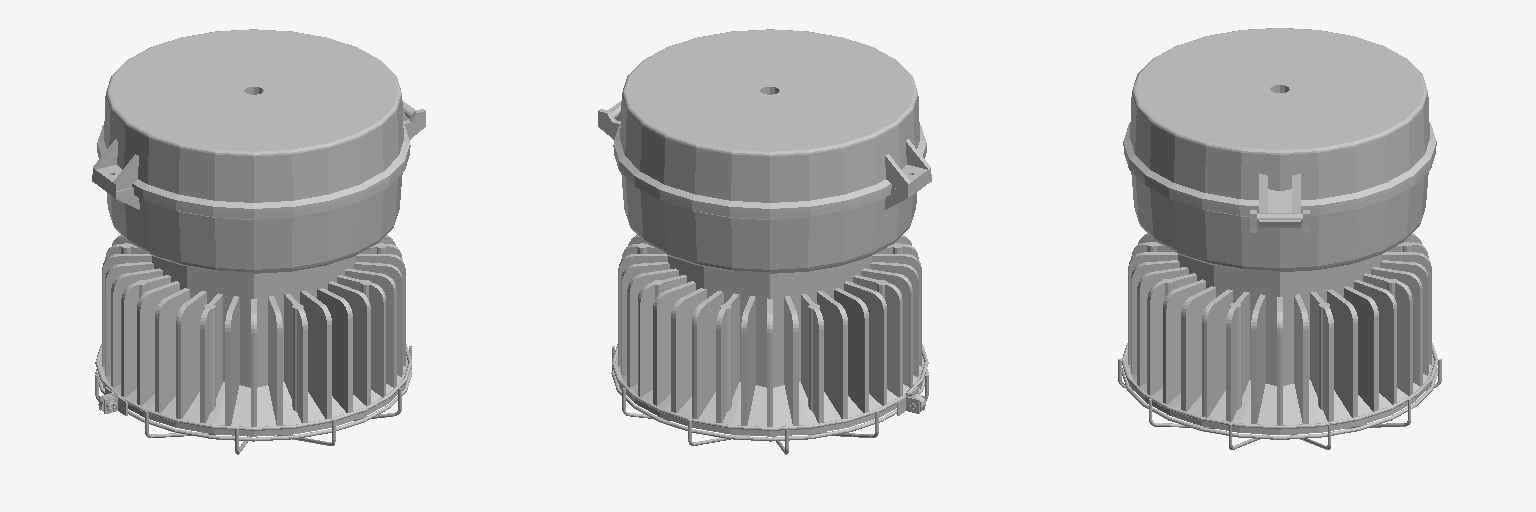
File: PVM3L2AR1G_UNV1.obj
3 renders of one model, left to right at view 1: azimuth 30°, elevation 25°; view 2: azimuth 150°, elevation 25°; view 3: azimuth 270°, elevation 25°, orthographic.
Bounding box in the file's own units: 11.72 × 11.89 × 10.52.